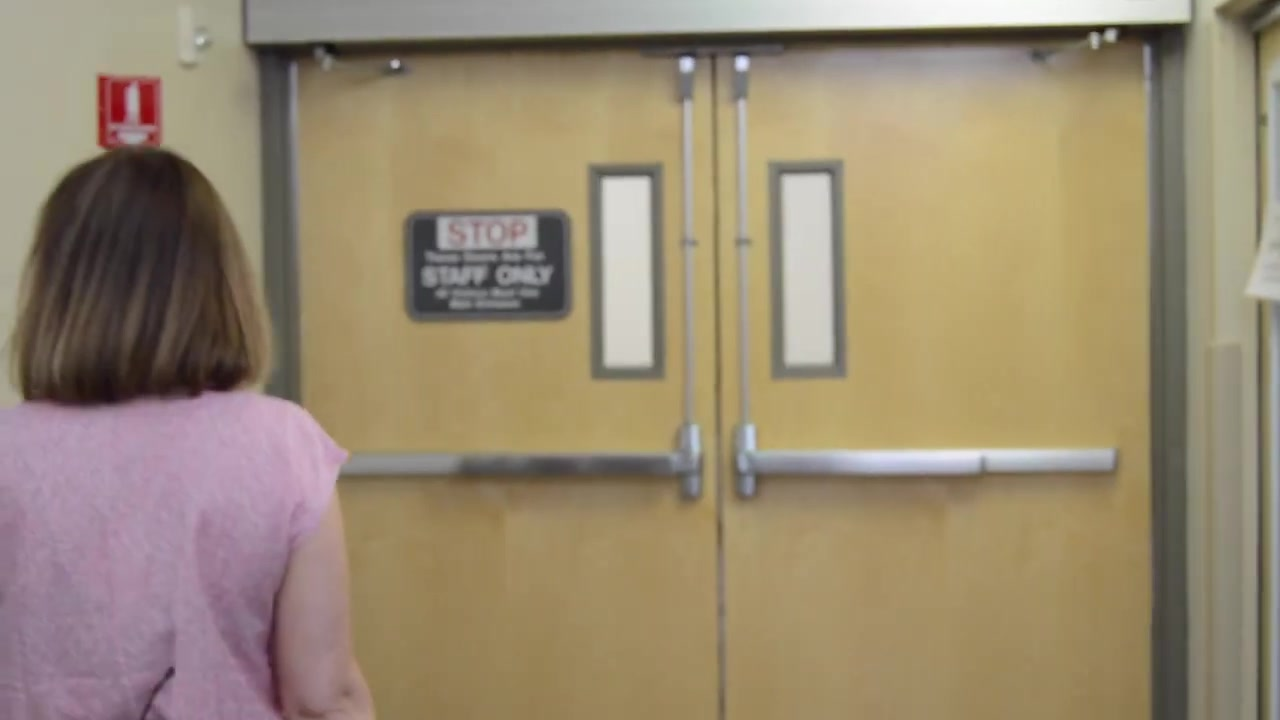person: (1, 147, 372, 720)
push_latch: (337, 418, 700, 500), (738, 427, 1112, 491)
